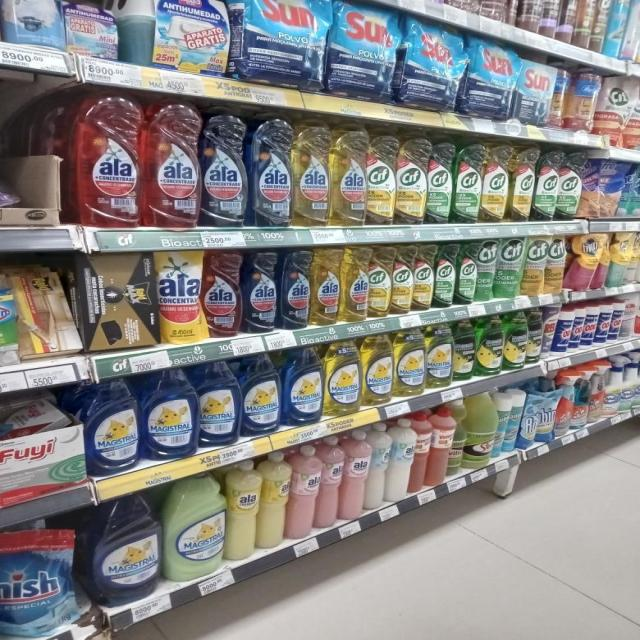ala_conc_amarillo: (294, 122, 329, 228), (331, 128, 365, 227), (311, 248, 340, 326), (341, 248, 368, 322)
ala_conc_azul: (202, 108, 248, 228), (250, 116, 292, 228), (243, 250, 278, 333), (280, 250, 310, 330)
ala_conc_rojo: (66, 88, 142, 229), (144, 99, 200, 230), (204, 248, 241, 338)
ala_crem_rosado: (343, 429, 367, 521)
ala_sachet_amarillo: (156, 249, 203, 344)
cif_conc_bot_amarilla: (396, 135, 426, 226), (366, 132, 395, 226), (482, 144, 508, 224), (510, 146, 534, 223), (368, 246, 392, 318), (392, 245, 412, 315), (414, 244, 433, 311)
cif_conc_botella_verde: (454, 142, 481, 225), (427, 138, 452, 225), (534, 150, 556, 222), (556, 154, 580, 220), (434, 243, 455, 308), (456, 241, 476, 306)
cif_conc_sachet_amarillo: (524, 235, 546, 296), (546, 235, 567, 294)
cif_conc_sachet_verde: (496, 237, 522, 299), (476, 240, 495, 302)
magistral_con_amarillo: (324, 339, 359, 416), (362, 334, 392, 406), (394, 328, 424, 398)
magistral_con_azul: (88, 493, 160, 604), (85, 377, 140, 475), (142, 367, 196, 460), (198, 359, 240, 446), (242, 352, 281, 435), (283, 346, 323, 426)
magistral_con_crema: (165, 472, 225, 581)
